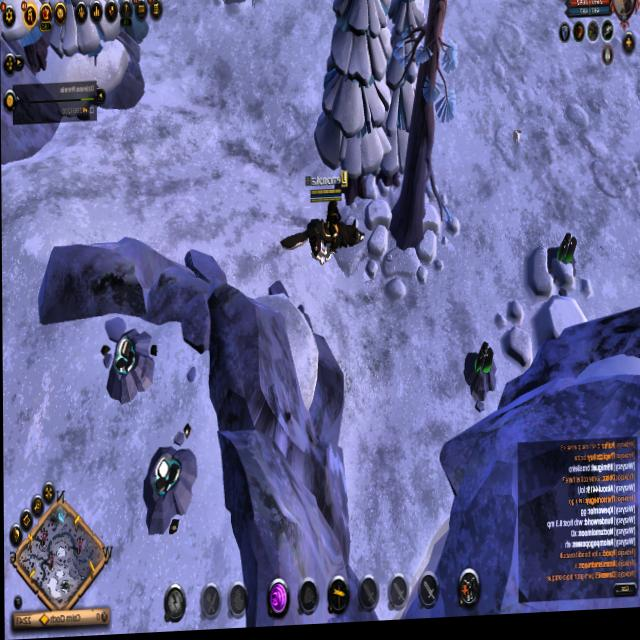ore tier 3: (458, 347, 497, 413), (544, 235, 580, 305)
